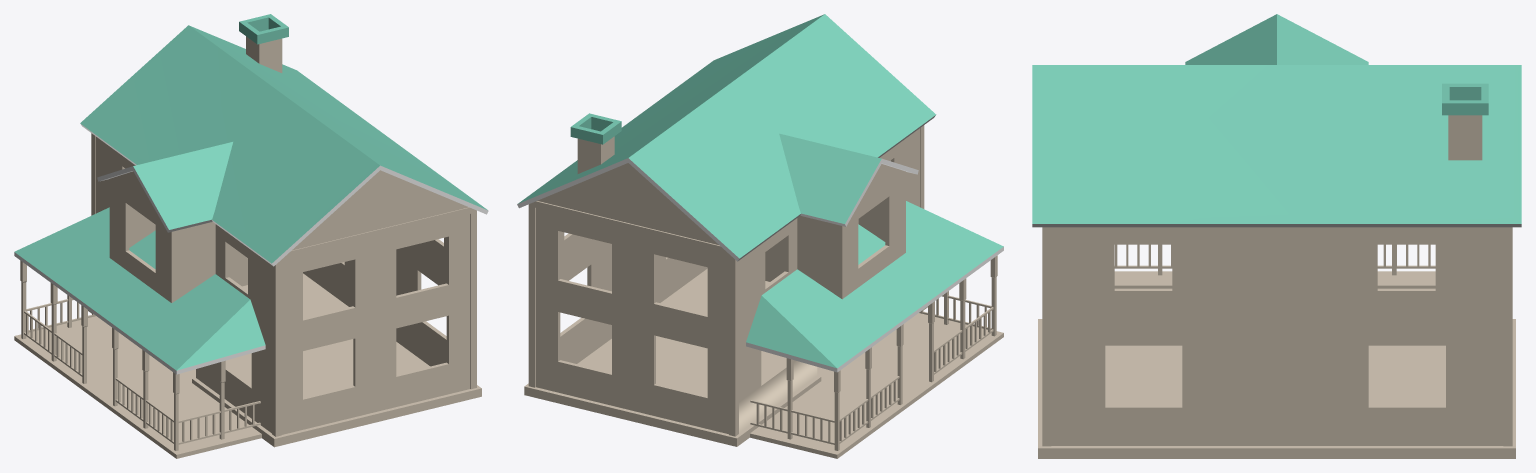
Rendered from Res3.obj.
3 renders of one model, left to right at view 1: azimuth 30°, elevation 25°; view 2: azimuth 150°, elevation 25°; view 3: azimuth 270°, elevation 25°, orthographic. The views are drawn at different scales.
Visible parts, largest first — view 1: Res3; view 2: Res3; view 3: Res3.
Boxes of the visible parts, box(x1,y1,x2,y2) form: Res3: box(14, 14, 488, 458); Res3: box(517, 14, 1003, 458); Res3: box(1032, 14, 1521, 458).
Size of the model in its own units: 68 by 57.17 by 75.92.
